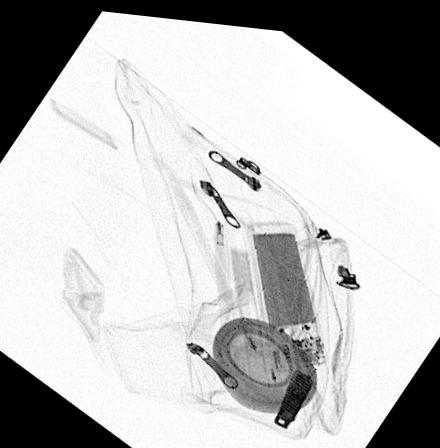Powerbank: (245, 216, 330, 365)
